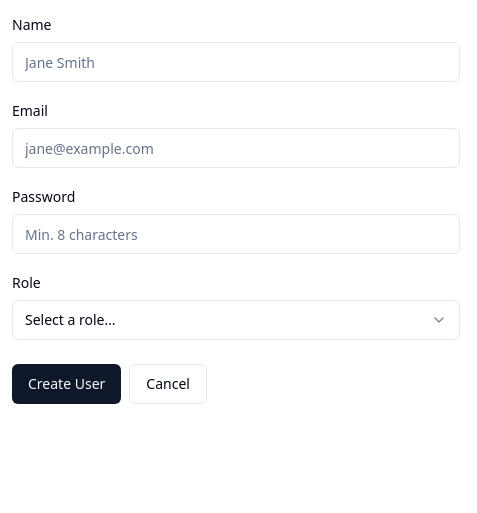
UserForm › create mode › shows validation errors when submitting an empty form
The width and height of the screenshot is (477, 513).
Click the button "Create User" at (67, 384), box [12, 364, 121, 404]
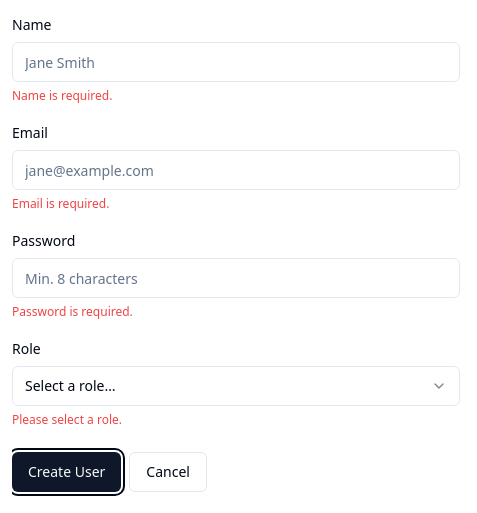
Expected: the text "Name is required." is shown, [12, 87, 112, 104]
Expected: the text "Email is required." is shown, [12, 195, 109, 212]
Expected: the text "Password is required." is shown, [12, 303, 133, 320]
